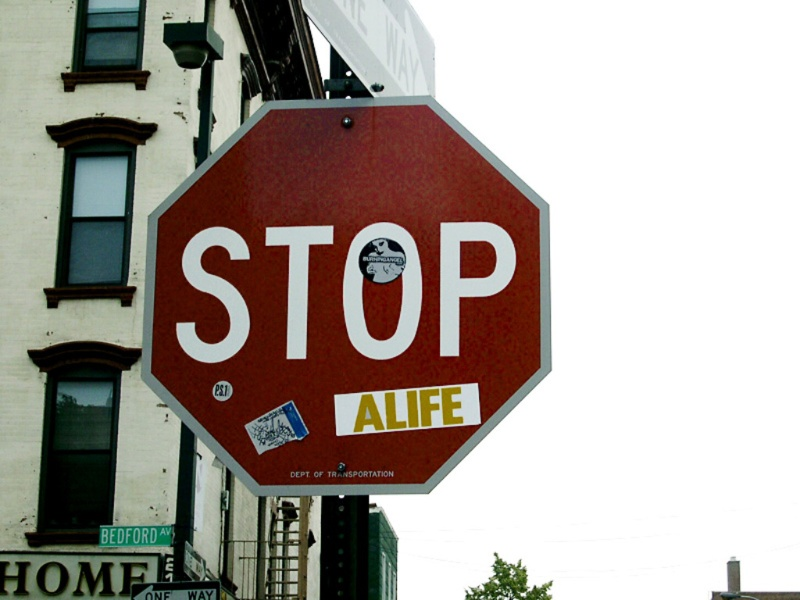stop: (154, 94, 549, 498)
